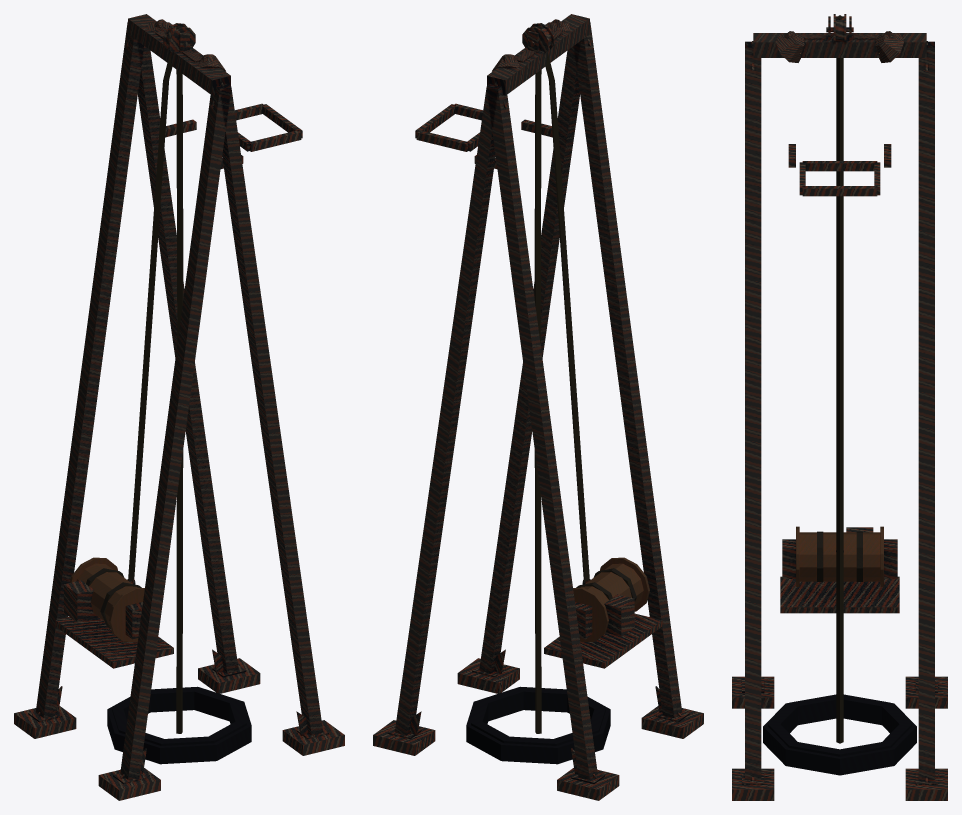
The model's file is derrick_lod1.glb.
3 renders of one model, left to right at view 1: azimuth 30°, elevation 25°; view 2: azimuth 150°, elevation 25°; view 3: azimuth 270°, elevation 25°, orthographic. The views are drawn at different scales.
Visible parts, largest first — view 1: LOD1_derrick, LOD1_cable, LOD1_drum; view 2: LOD1_derrick, LOD1_cable, LOD1_drum; view 3: LOD1_derrick, LOD1_cable, LOD1_drum, LOD1_lamp_L, LOD1_lamp_R.
Part boxes in pixels (x1,y1,x2,y2): LOD1_derrick: (14, 14, 344, 800); LOD1_cable: (86, 26, 183, 733); LOD1_drum: (70, 557, 144, 642); LOD1_derrick: (373, 14, 703, 800); LOD1_cable: (534, 26, 636, 733); LOD1_drum: (573, 557, 649, 642); LOD1_derrick: (732, 14, 947, 800); LOD1_cable: (817, 15, 862, 743); LOD1_drum: (796, 526, 883, 586); LOD1_lamp_L: (853, 31, 903, 62); LOD1_lamp_R: (776, 31, 826, 62).
Bounding box in the file's own units: 2.16 × 6.49 × 1.74.
Materials: 2 (2 with a texture image).
